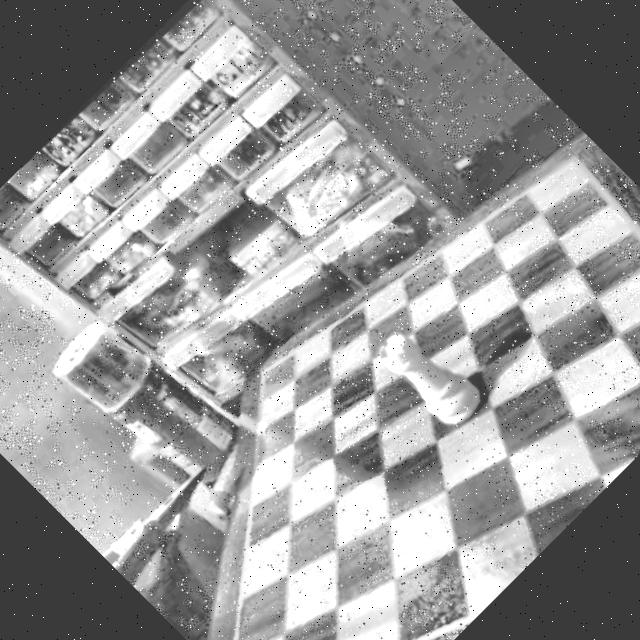white-rook: (356, 310, 489, 442)
